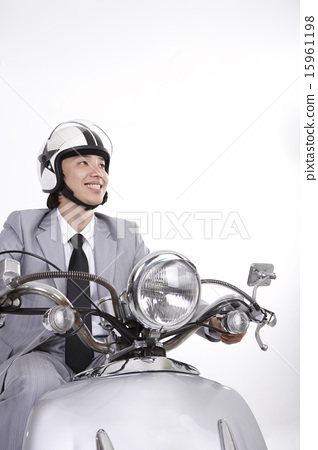helmet: (32, 123, 119, 192)
